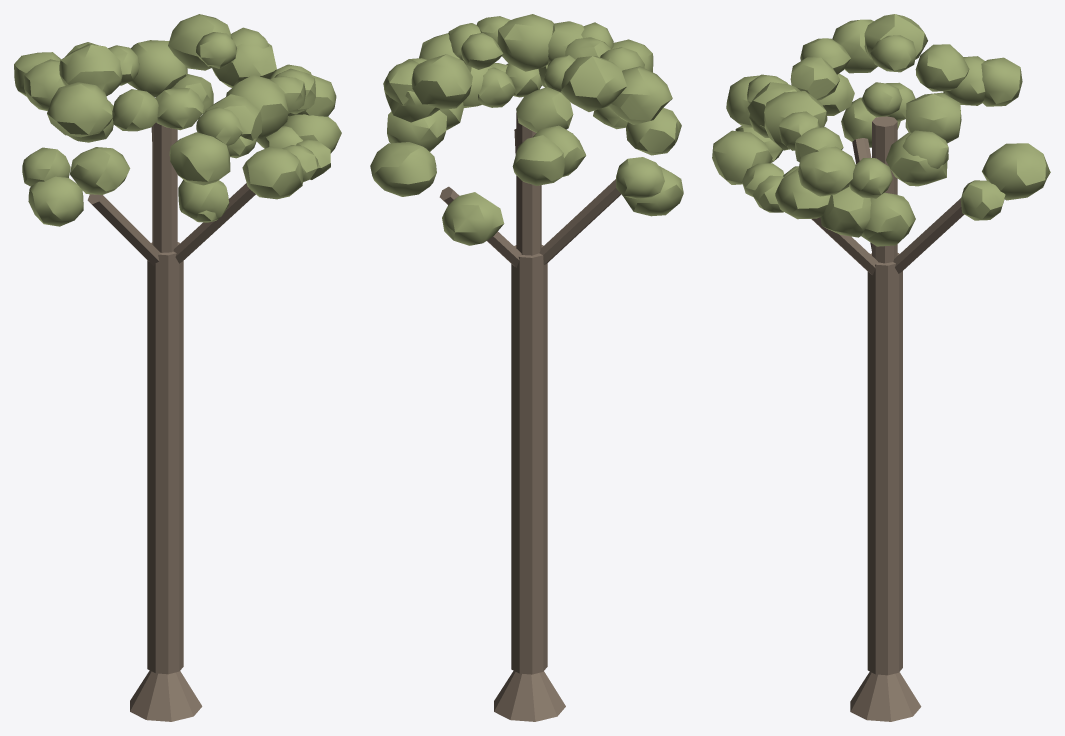
File: tree_birch.glb
3 views of the same model, side by side, from view 1: azimuth 30°, elevation 25°; view 2: azimuth 150°, elevation 25°; view 3: azimuth 270°, elevation 25° (orthographic). The views are drawn at different scales.
Parts seen in each view (by area): view 1: tree_birch; view 2: tree_birch; view 3: tree_birch.
Boxes of the visible parts, bbox=[...] form: tree_birch: bbox=[14, 14, 341, 721]; tree_birch: bbox=[370, 14, 683, 721]; tree_birch: bbox=[712, 14, 1050, 721].
Size of the model in its own units: 2.98 by 6.76 by 3.15.
